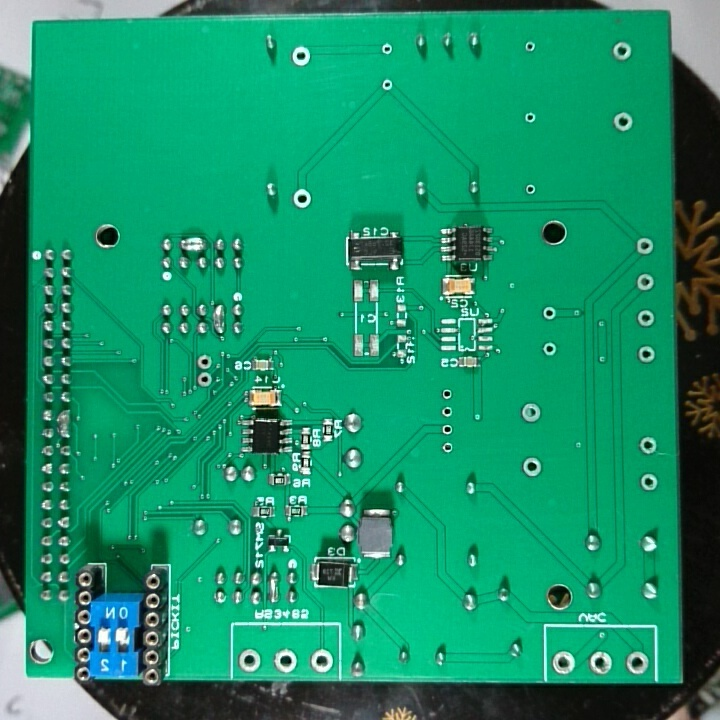F: (551, 649, 578, 679), (517, 398, 544, 427), (588, 649, 615, 678), (308, 646, 335, 675), (237, 646, 264, 675), (271, 648, 300, 674), (625, 649, 650, 677), (612, 109, 636, 137), (519, 455, 545, 480), (609, 39, 634, 63), (633, 234, 657, 259), (291, 186, 313, 211), (290, 45, 313, 67), (637, 435, 659, 458), (639, 469, 659, 494), (634, 308, 657, 329), (634, 272, 656, 293), (539, 338, 560, 360), (637, 344, 657, 366), (539, 303, 559, 325), (194, 352, 215, 372), (195, 369, 213, 389), (522, 38, 539, 58), (439, 438, 457, 456), (440, 420, 457, 438), (522, 181, 539, 198), (439, 403, 456, 420), (379, 40, 394, 59), (439, 387, 455, 403), (522, 109, 537, 126), (380, 76, 394, 94)
P: (211, 300, 228, 337), (177, 235, 208, 255), (266, 568, 282, 603), (55, 409, 73, 440)
